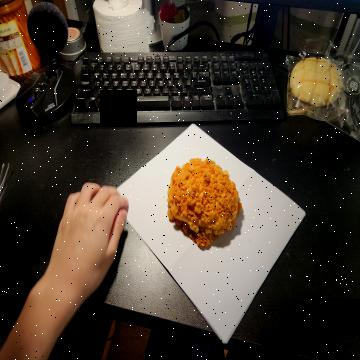soboru_bread: (166, 156, 244, 252)
